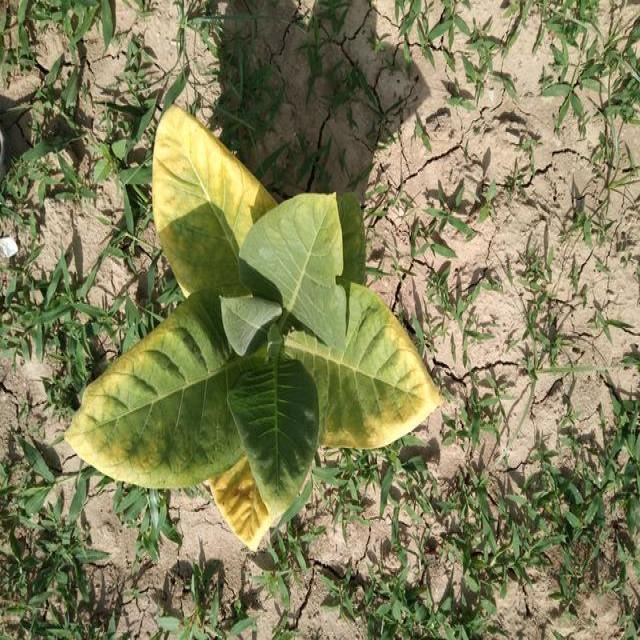crop: (72, 100, 459, 543)
